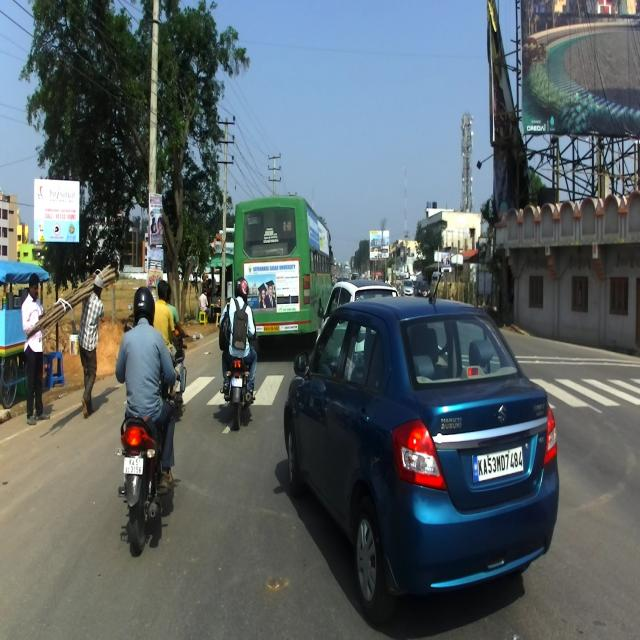Car_Maruti-Suzuki: (284, 270, 561, 623)
bus: (234, 194, 334, 351)
motorcycle: (158, 325, 188, 410)
motorcycle_Hero: (113, 348, 185, 554)
motorcycle_bajaj: (220, 326, 260, 428)
